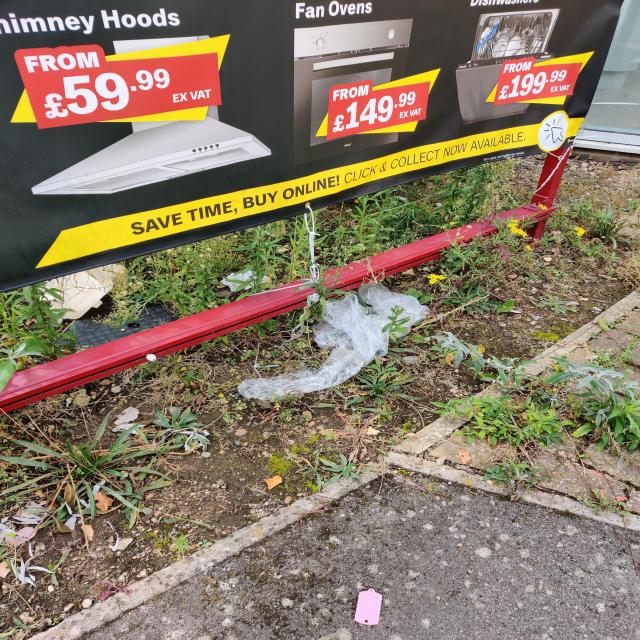litter: (238, 280, 406, 401), (33, 267, 115, 319), (220, 268, 268, 291), (354, 588, 382, 625), (253, 343, 278, 378)
